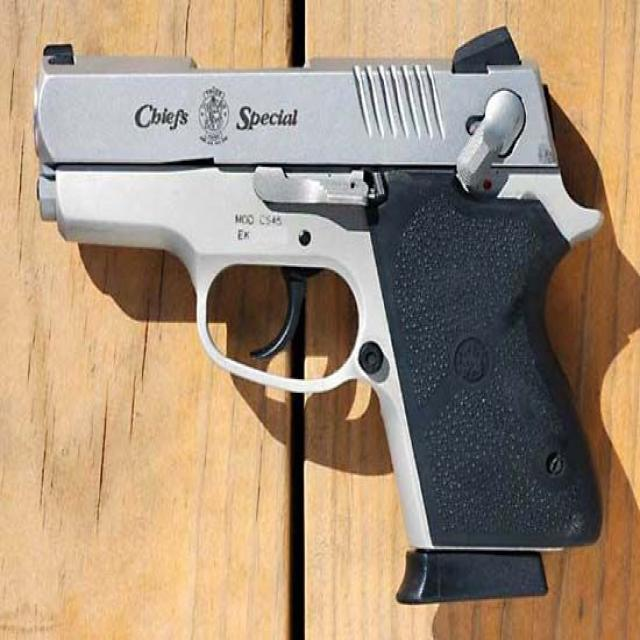pistol: (31, 23, 610, 608)
